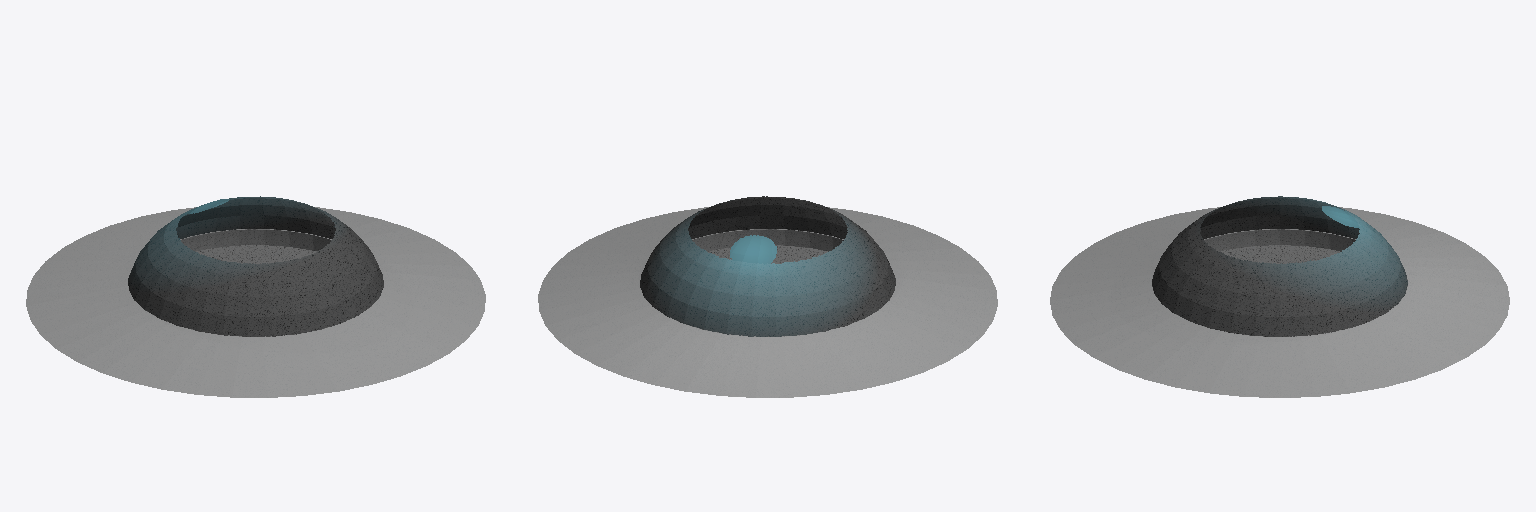
3 renders of one model, left to right at view 1: azimuth 30°, elevation 25°; view 2: azimuth 150°, elevation 25°; view 3: azimuth 270°, elevation 25°, orthographic.
Parts seen in each view (by area): view 1: Torus; view 2: Torus; view 3: Torus.
Boxes of the visible parts, x1,y1,x2,y2 form: Torus: [26, 196, 485, 397]; Torus: [538, 196, 997, 397]; Torus: [1050, 196, 1509, 397].
Bounding box in the file's own units: 3.52 × 0.7569 × 3.52.
2 materials, 1 textured.